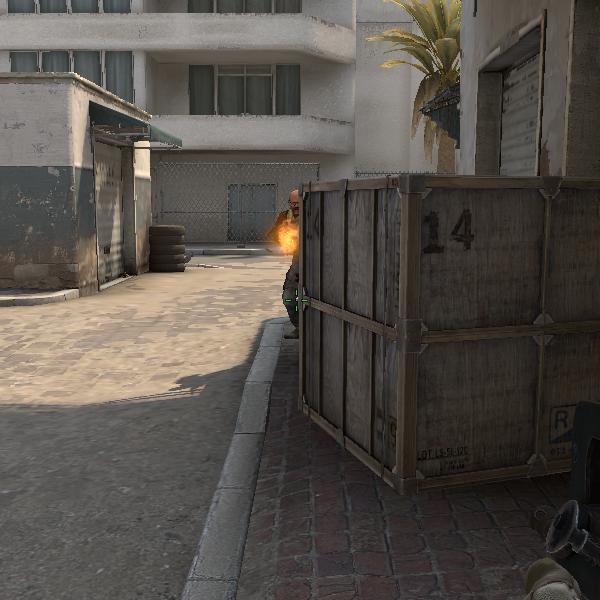t_body: (266, 189, 303, 339)
t_head: (283, 190, 300, 217)
